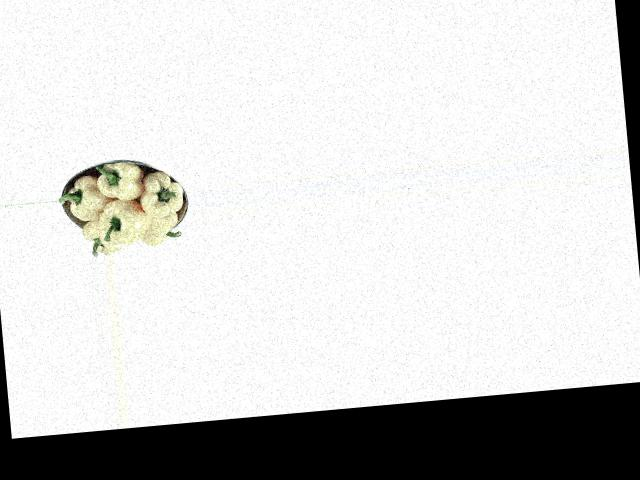bell_pepper: (76, 214, 121, 257)
